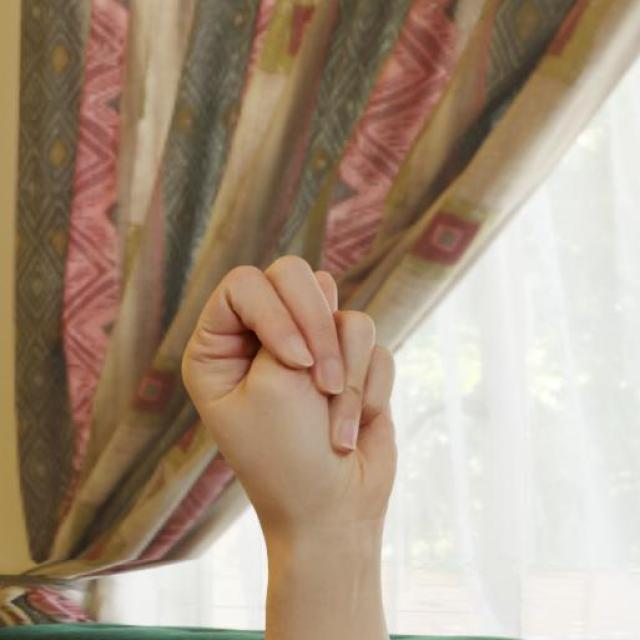N: (180, 252, 402, 522)
